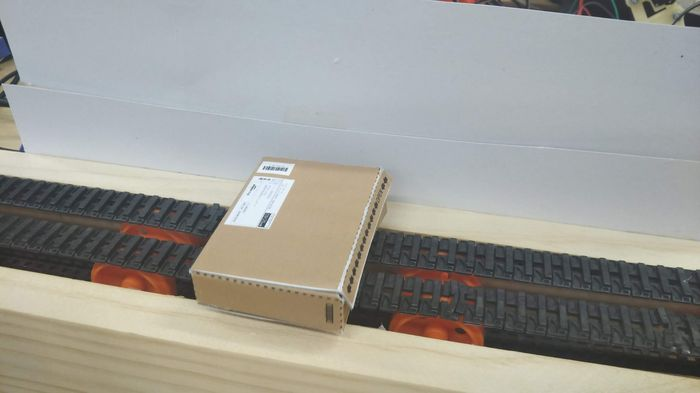box2: (191, 151, 391, 335)
